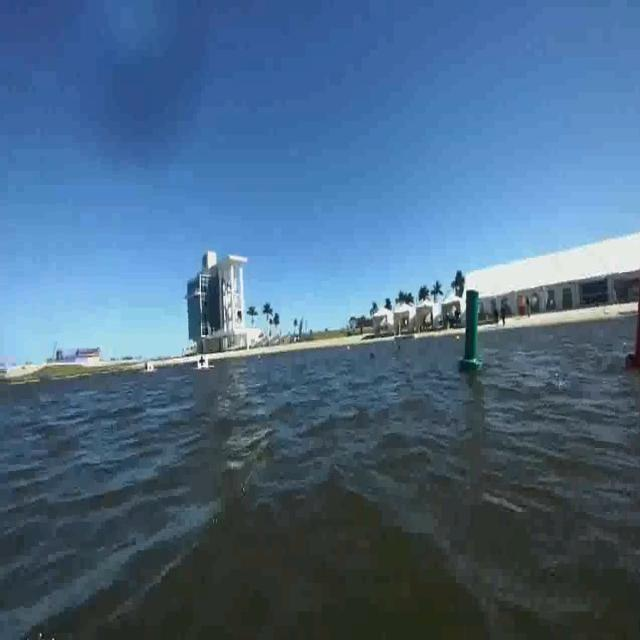green-column-buoy: (459, 289, 483, 373)
